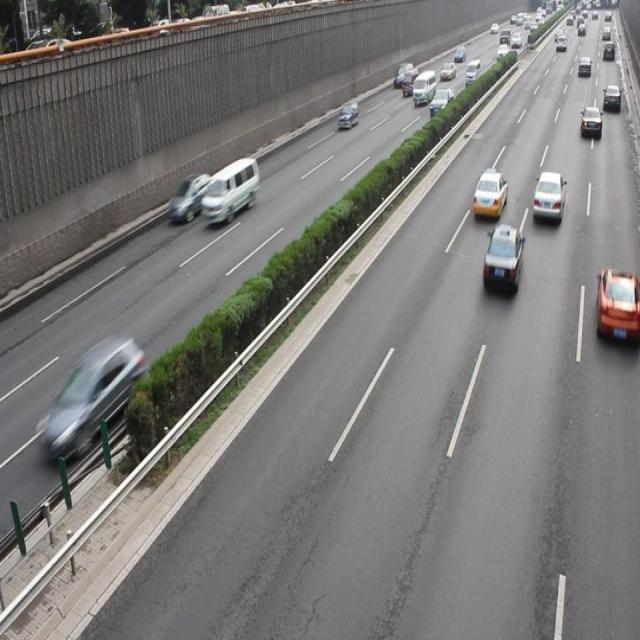car: (38, 336, 146, 458), (594, 266, 640, 344), (481, 224, 523, 289), (169, 170, 212, 220), (472, 169, 506, 220), (530, 170, 562, 222), (428, 87, 452, 118), (580, 105, 601, 137), (338, 100, 358, 126)
truck: (202, 154, 260, 223)
